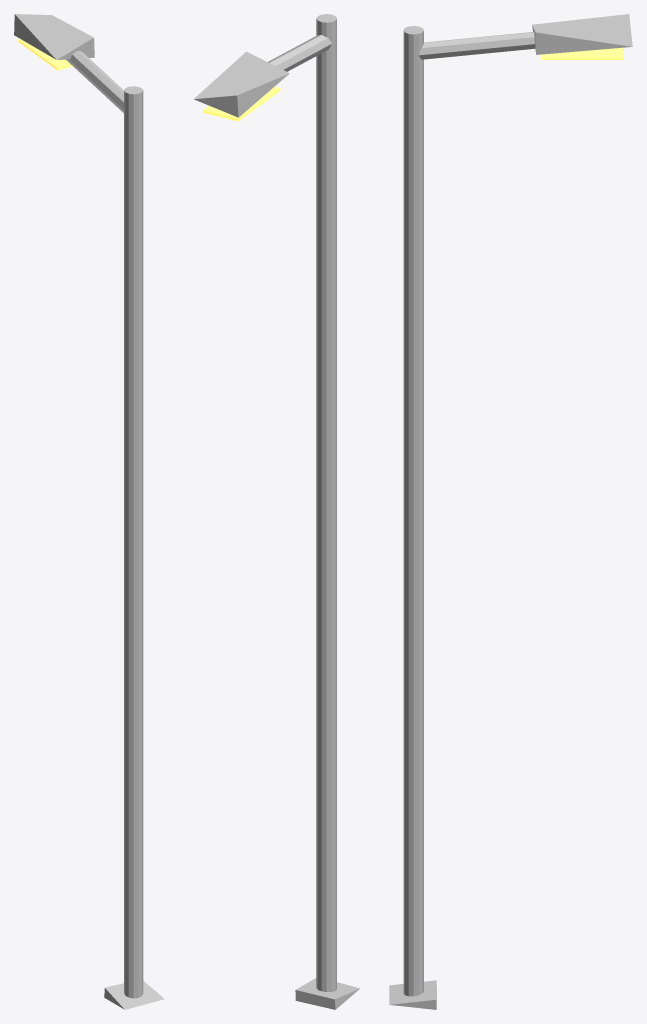
The model's file is streetlight-lod2.glb.
3 views of the same model, side by side, from view 1: azimuth 30°, elevation 25°; view 2: azimuth 150°, elevation 25°; view 3: azimuth 270°, elevation 25° (orthographic). The views are drawn at different scales.
Visible parts, largest first — view 1: 9m tapered pole, sodium lamp housing, outreach, anchor plate, separate emissive diffuser; view 2: 9m tapered pole, sodium lamp housing, anchor plate, outreach, separate emissive diffuser; view 3: 9m tapered pole, sodium lamp housing, outreach, anchor plate, separate emissive diffuser.
Boxes of the visible parts, box(x1,y1,x2,y2) form: 9m tapered pole: box(124, 86, 143, 998); sodium lamp housing: box(14, 14, 94, 59); outreach: box(66, 50, 123, 112); anchor plate: box(104, 981, 164, 1009); separate emissive diffuser: box(18, 39, 72, 70); 9m tapered pole: box(316, 14, 336, 991); sodium lamp housing: box(194, 51, 289, 117); anchor plate: box(295, 978, 359, 1009); outreach: box(268, 35, 331, 71); separate emissive diffuser: box(203, 86, 280, 121); 9m tapered pole: box(403, 26, 423, 996); sodium lamp housing: box(532, 14, 632, 54); outreach: box(418, 32, 535, 59); anchor plate: box(389, 980, 436, 1009); separate emissive diffuser: box(540, 47, 623, 59).
Bounding box in the file's own units: 0.4356 × 8.96 × 2.02.
